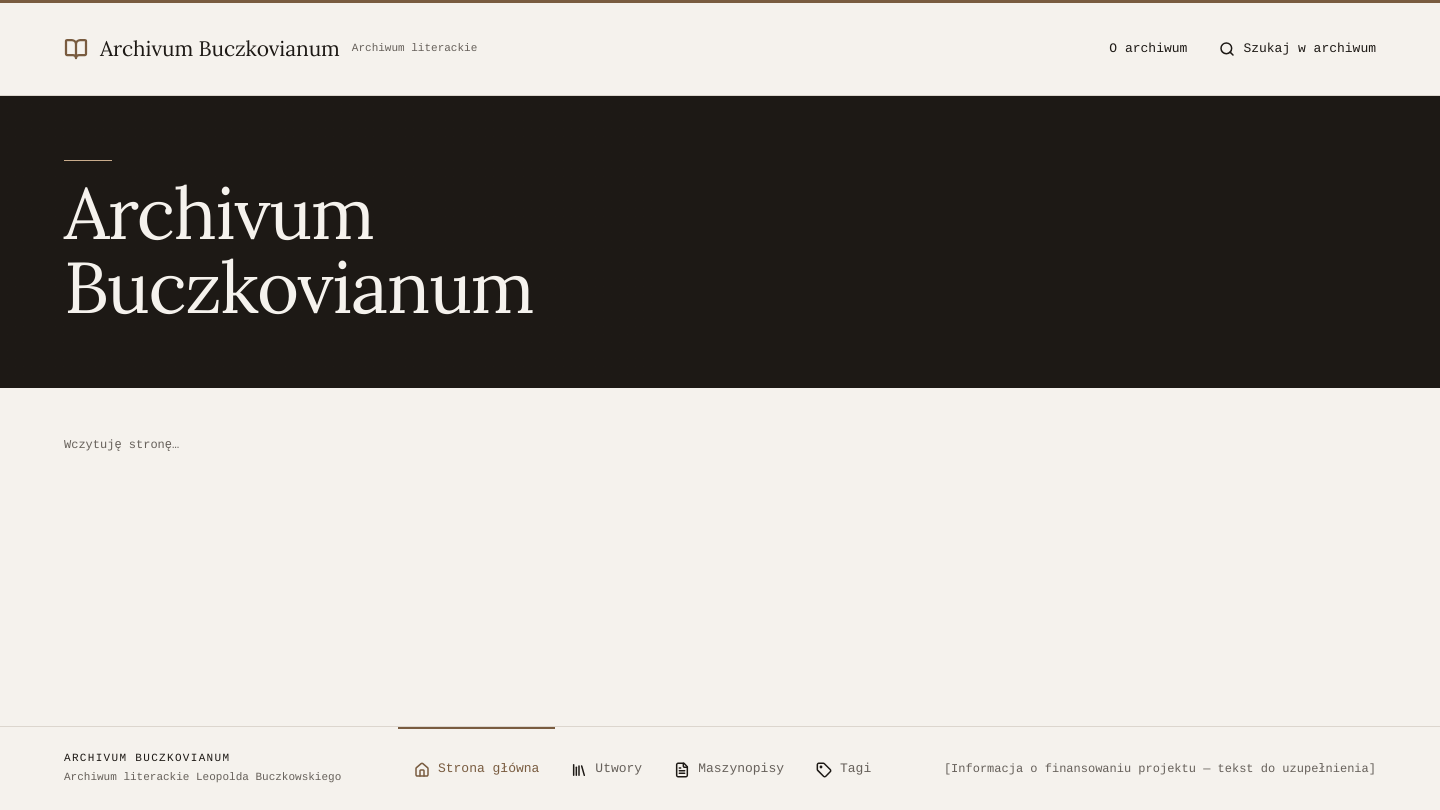
it: TypescriptsPage › US-RA-19 AC1: 'Maszynopisy' in the main navigation opens the list and is the active item
Click the link "Maszynopisy" at coordinates (729, 769), box x1=674 y1=761 x2=784 y2=778
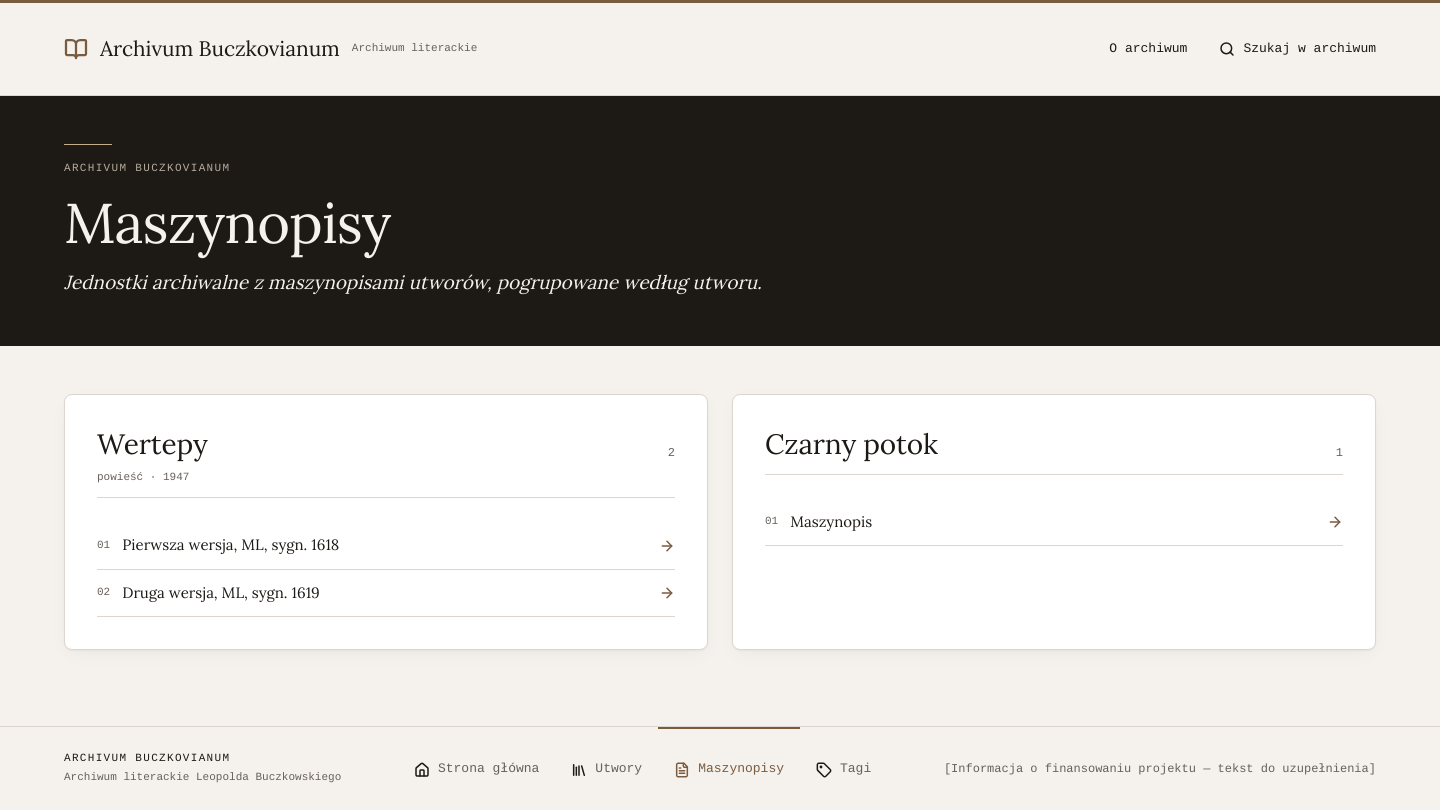
Now the heading "Wertepy" is shown, box x1=97 y1=426 x2=208 y2=462
Now the heading "Maszynopisy" is shown, box x1=64 y1=187 x2=391 y2=258
